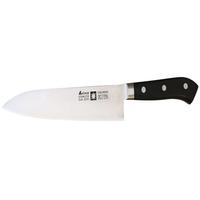knife: (3, 74, 200, 125)
